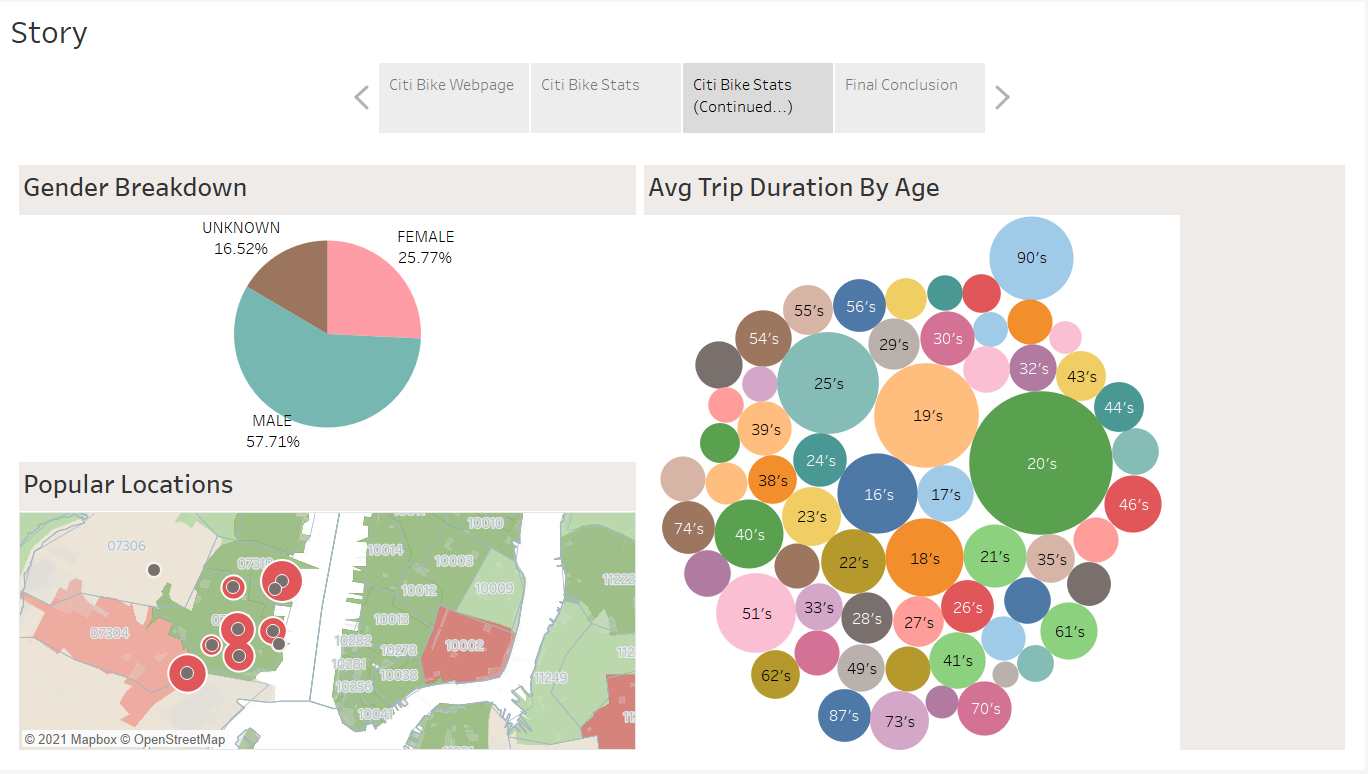

The dashboard page shown, as its layout file describes it:
{"tool":"tableau","page":{"name":"Citi Bike Dash 2","canvas":[1000,1000],"units":"permille","ordinal":2},"visuals":[{"type":"worksheet","box":[0,0,1000,1000]},{"type":"worksheet","param":"horz","box":[5,9.3,990,981.4]},{"type":"worksheet","param":"horz","box":[5,9.3,990,981.4]},{"type":"worksheet","box":[5,9.3,990,981.4]},{"type":"worksheet","title":"Gender Breakdown","mark":"Pie","box":[5,9.3,463.7,490.7]},{"type":"worksheet","title":"Avg Trip Duration By Age","mark":"Circle","box":[468.7,9.3,526.3,981.4]},{"type":"worksheet","title":"Popular Locations","mark":"Circle","box":[5,500,463.7,490.7]}]}

Visuals, with their boxes on the dashboard's canvas, which has no fixed pixel size, in thousandths of its width and height (x1, y1, x2, y2). These are canvas units, not pixel positions in the 1368x774 screenshot, which may show the page scaled, cropped or inside an application window:
worksheet: 0/0/1000/1000
worksheet: 5/9/995/991
worksheet: 5/9/995/991
worksheet: 5/9/995/991
"Gender Breakdown" worksheet (Pie marks): 5/9/469/500
"Avg Trip Duration By Age" worksheet (Circle marks): 469/9/995/991
"Popular Locations" worksheet (Circle marks): 5/500/469/991
